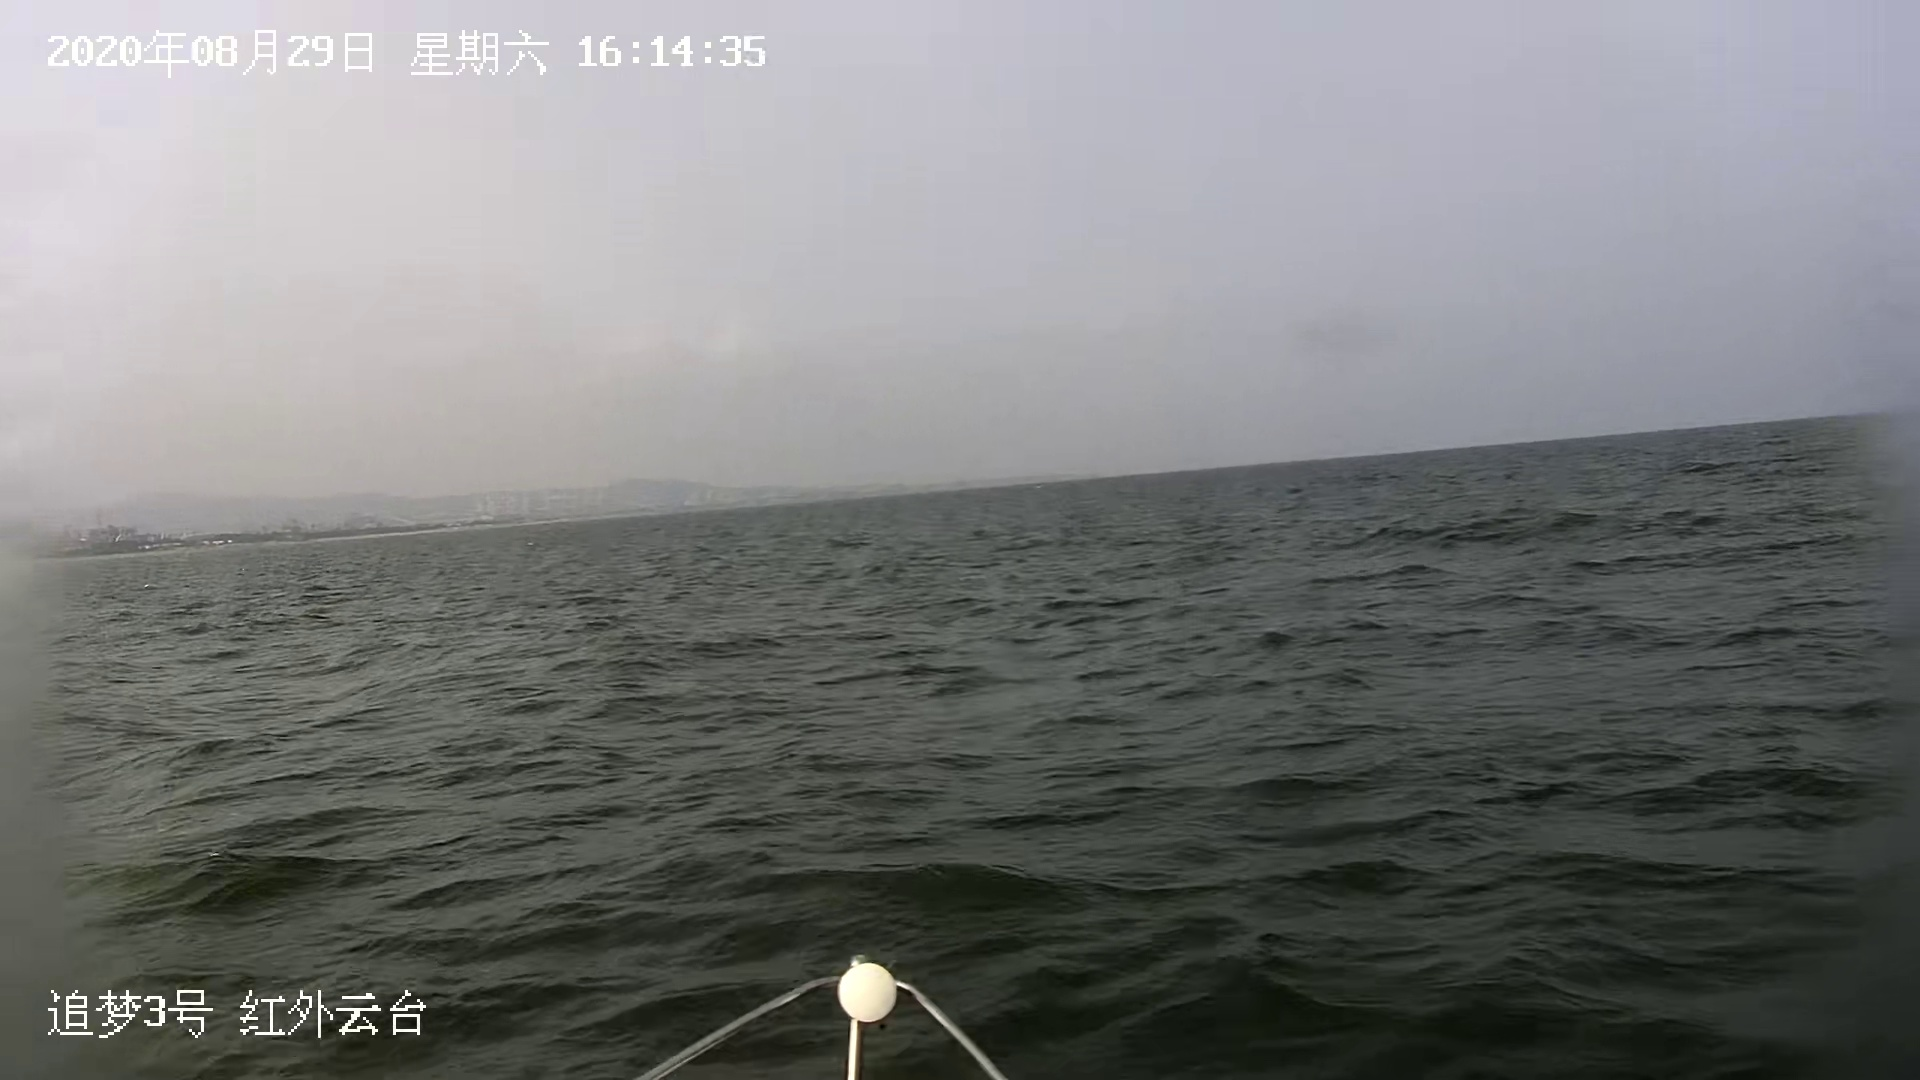coast: (32, 475, 877, 563)
